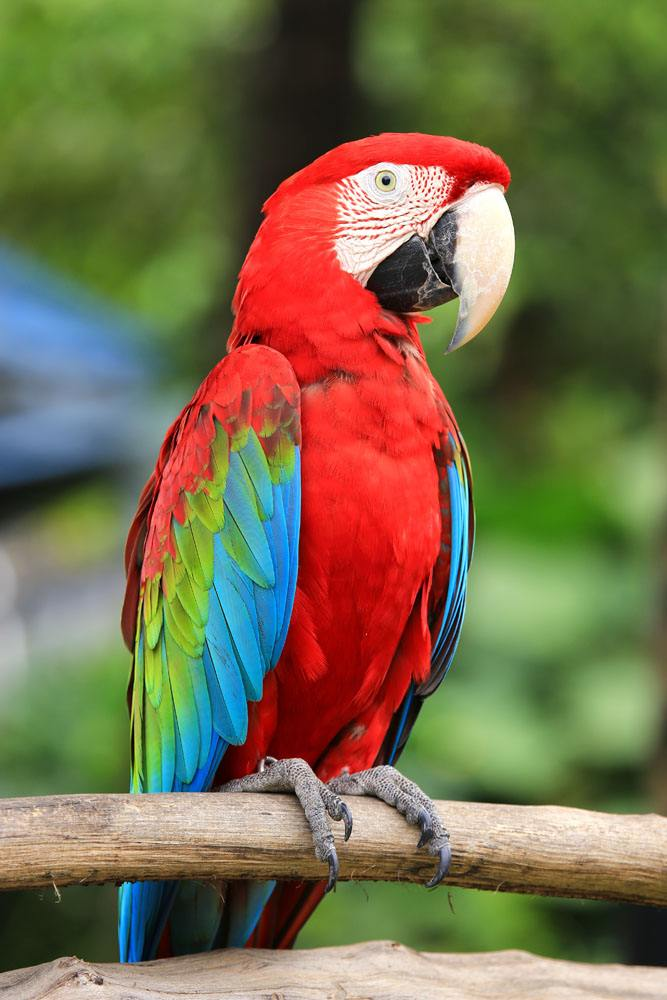bird: (116, 126, 521, 789)
